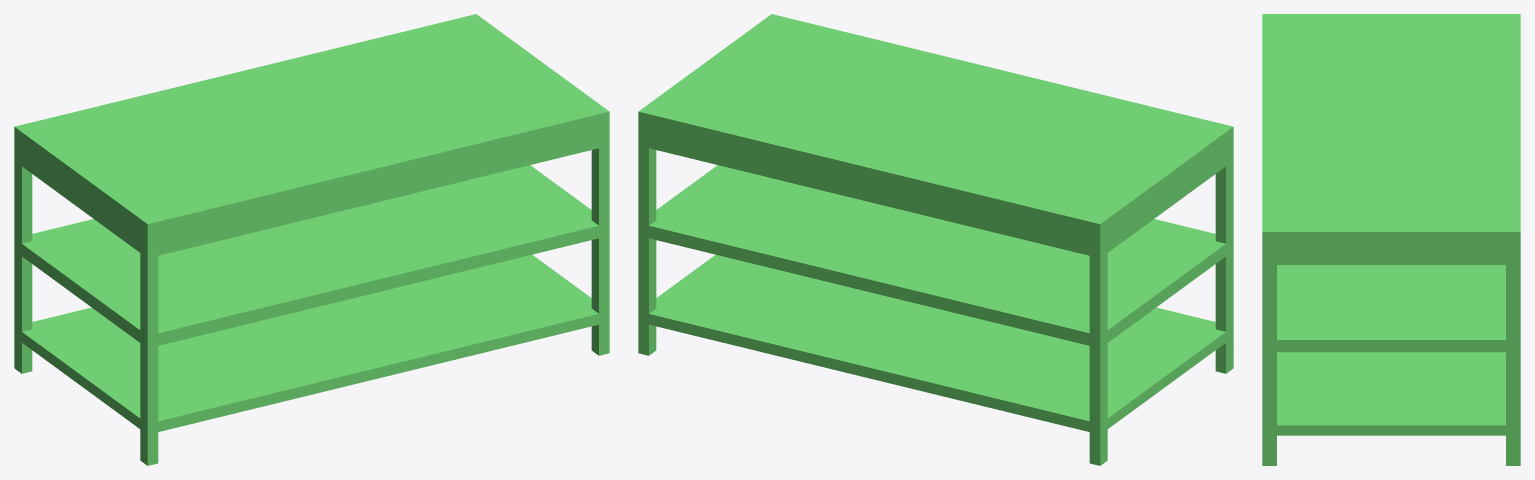
Rendered from Desk_08_C.fbx.
3 views of the same model, side by side, from view 1: azimuth 30°, elevation 25°; view 2: azimuth 150°, elevation 25°; view 3: azimuth 270°, elevation 25° (orthographic). The views are drawn at different scales.
Visible parts, largest first — view 1: Desk_08_C; view 2: Desk_08_C; view 3: Desk_08_C.
Part boxes in pixels (x1,y1,x2,y2): Desk_08_C: (14,14,609,465); Desk_08_C: (638,14,1233,465); Desk_08_C: (1262,14,1520,465).
Bounding box in the file's own units: 183 × 91.44 × 91.44.
